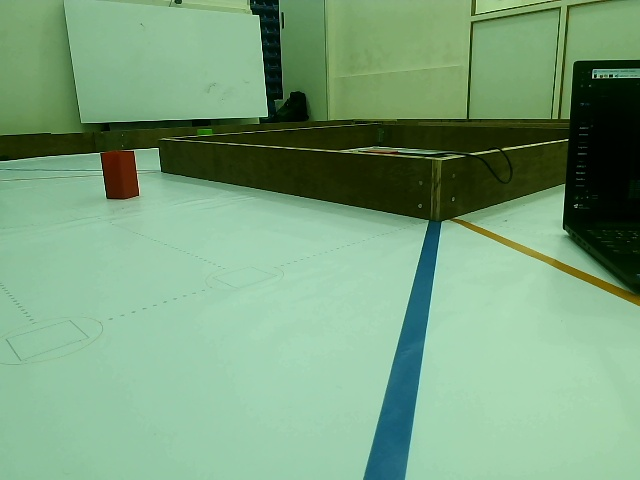red: (101, 152, 141, 201)
